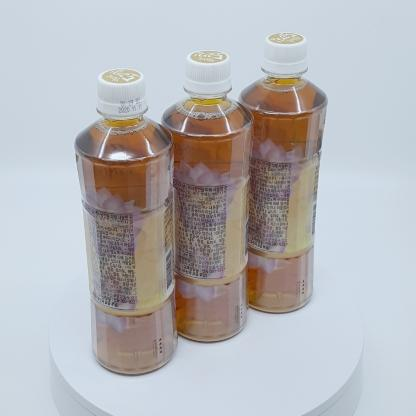------------500ML: (74, 68, 178, 376), (158, 50, 255, 344), (236, 32, 328, 315)
